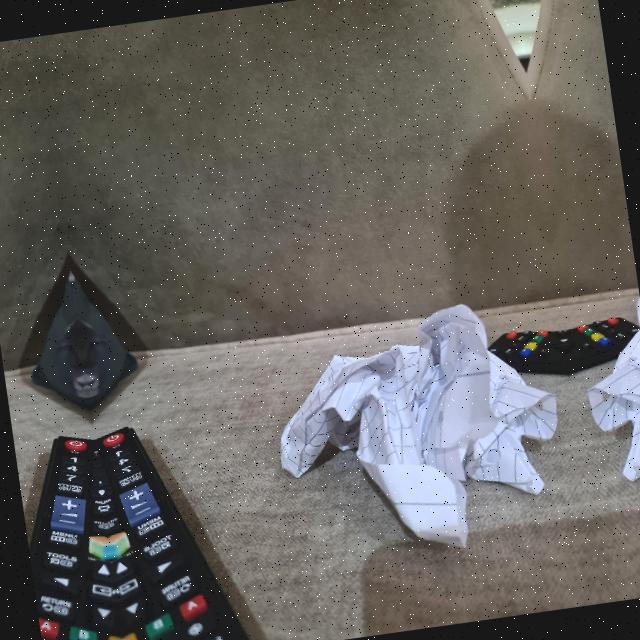paper: (250, 300, 559, 563), (590, 284, 640, 514)
